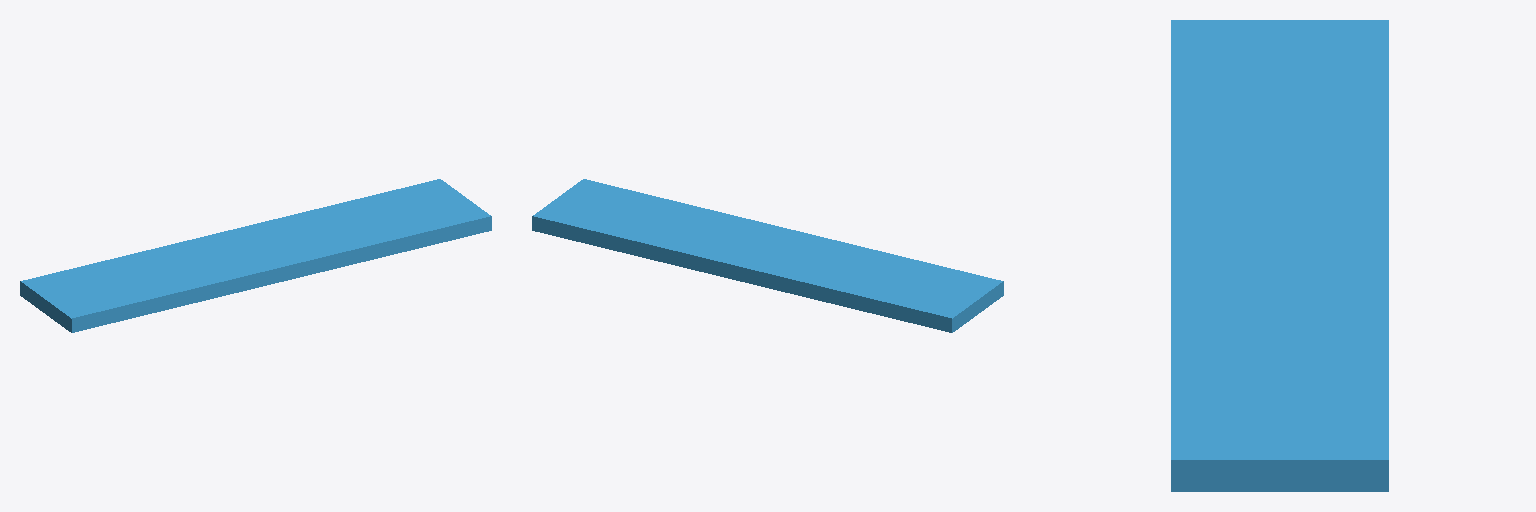
URDF robot description (cylinder_82):
    
    <robot name="cylinder_82">
        <link name="cylinder_82">    
            <fem>
                <origin rpy="0.0 0.0 0.0" xyz="0 0 0" />
                <density value="100" />
                <youngs value="763"/>
                <poissons value="0.3" />
                <damping value="0.0" />
                <attachDistance value="0.01" />
                <tetmesh filename="[local-path]/sim_data/Custom/Custom_mesh/multi_cylinder_1kPa/cylinder_82.tet" />
                <scale value="0.5"/>
            </fem>
        </link>

        <link name="fix_frame">
            <visual>
                <origin xyz="0.0 0.0 10.07513282469942"/>
                <geometry>
                    <box size="0.15 0.03157254149604893 0.005"/>
                </geometry>
            </visual>
            <collision>
                <origin xyz="0.0 0.0 0.07513282469942006"/>
                <geometry>
                    <box size="0.15 0.03157254149604893 0.005"/>
                </geometry>
            </collision>
            <inertial>
                <mass value="500000"/>
                <inertia ixx="0.05" ixy="0.0" ixz="0.0" iyy="0.05" iyz="0.0" izz="0.05"/>
            </inertial>
        </link>
        
        <joint name = "attach" type = "fixed">
            <origin xyz = "0.0 0.0 0.0" rpy = "0 0 0"/>
            <parent link ="cylinder_82"/>
            <child link = "fix_frame"/>
        </joint>  




    </robot>
    

--- Render facts (derived) ---
3 views of the same robot in one strip: view 1: azimuth 30°, elevation 25°; view 2: azimuth 150°, elevation 25°; view 3: azimuth 270°, elevation 25° (orthographic).
Model cylinder_82 with 2 links and 1 joints (1 fixed), rooted at cylinder_82, posed every joint at zero.
Links seen in each view (by area): view 1: fix_frame; view 2: fix_frame; view 3: fix_frame.
Link boxes in pixels (x1,y1,x2,y2): fix_frame: (20,179,491,332); fix_frame: (532,179,1003,332); fix_frame: (1171,20,1388,491).
Bounding box of the posed robot: 0.15 × 0.0316 × 0.005 m (x, y, z).
Geometry: primitives only (box / cylinder / sphere), no mesh files.
